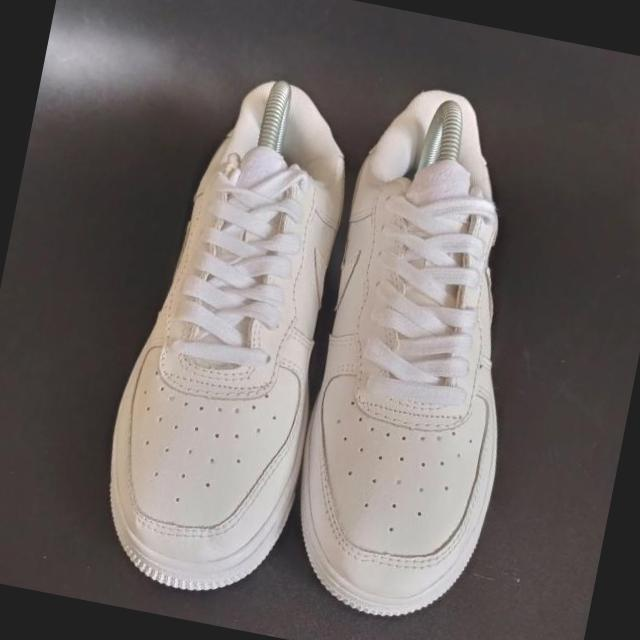nike_fake_airforce: (78, 62, 368, 616), (273, 95, 565, 640)
